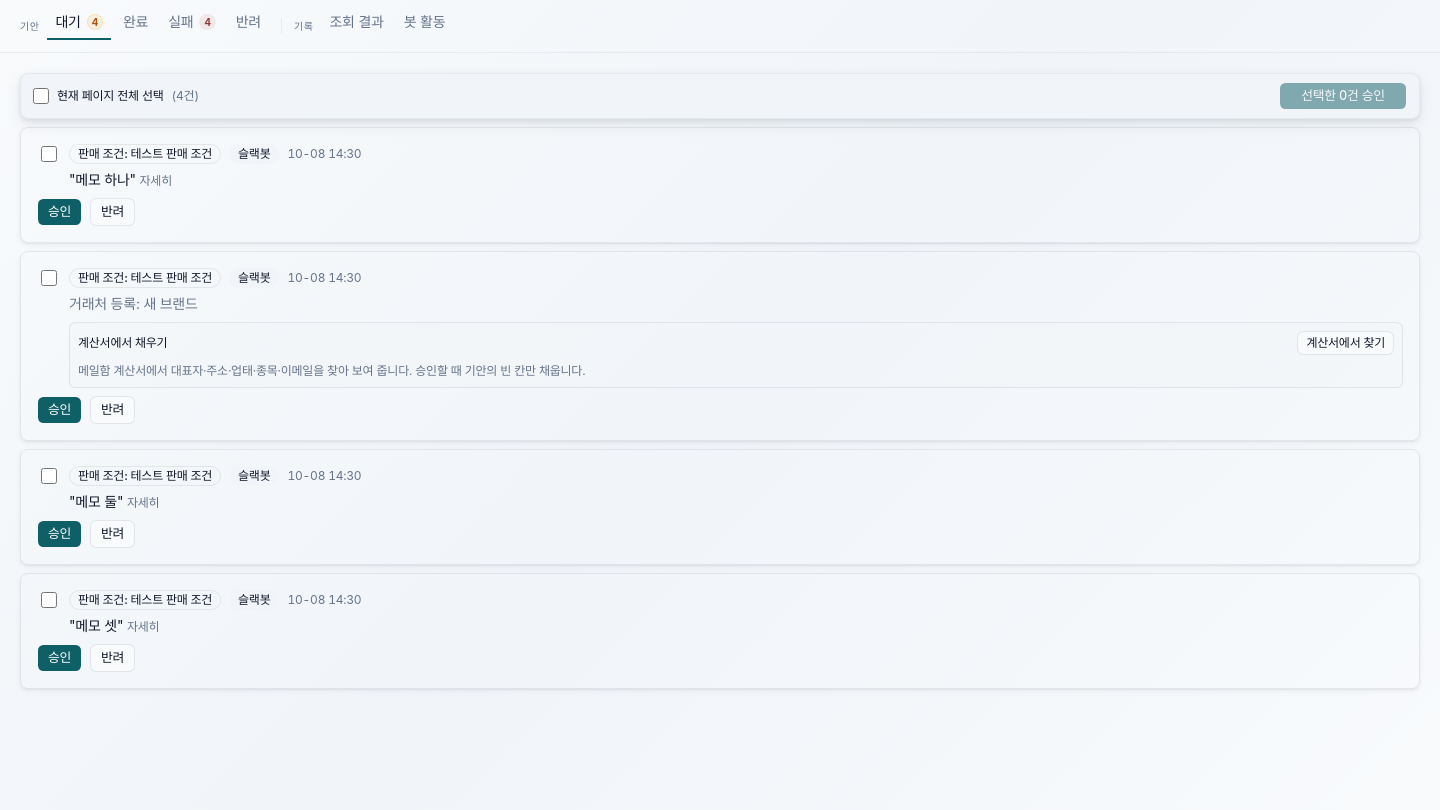
Scenario: 결재함 대기 탭 — 일괄 승인 › ③ 확인 창은 종류별 건수와 CRM 데이터 변경 경고를 보여 준다 · ④ 취소하면 보내지 않는다
Click the checkbox labelled "현재 페이지 전체 선택 (4건)".
click(41, 96)  # box left=33, top=88, right=49, bottom=104
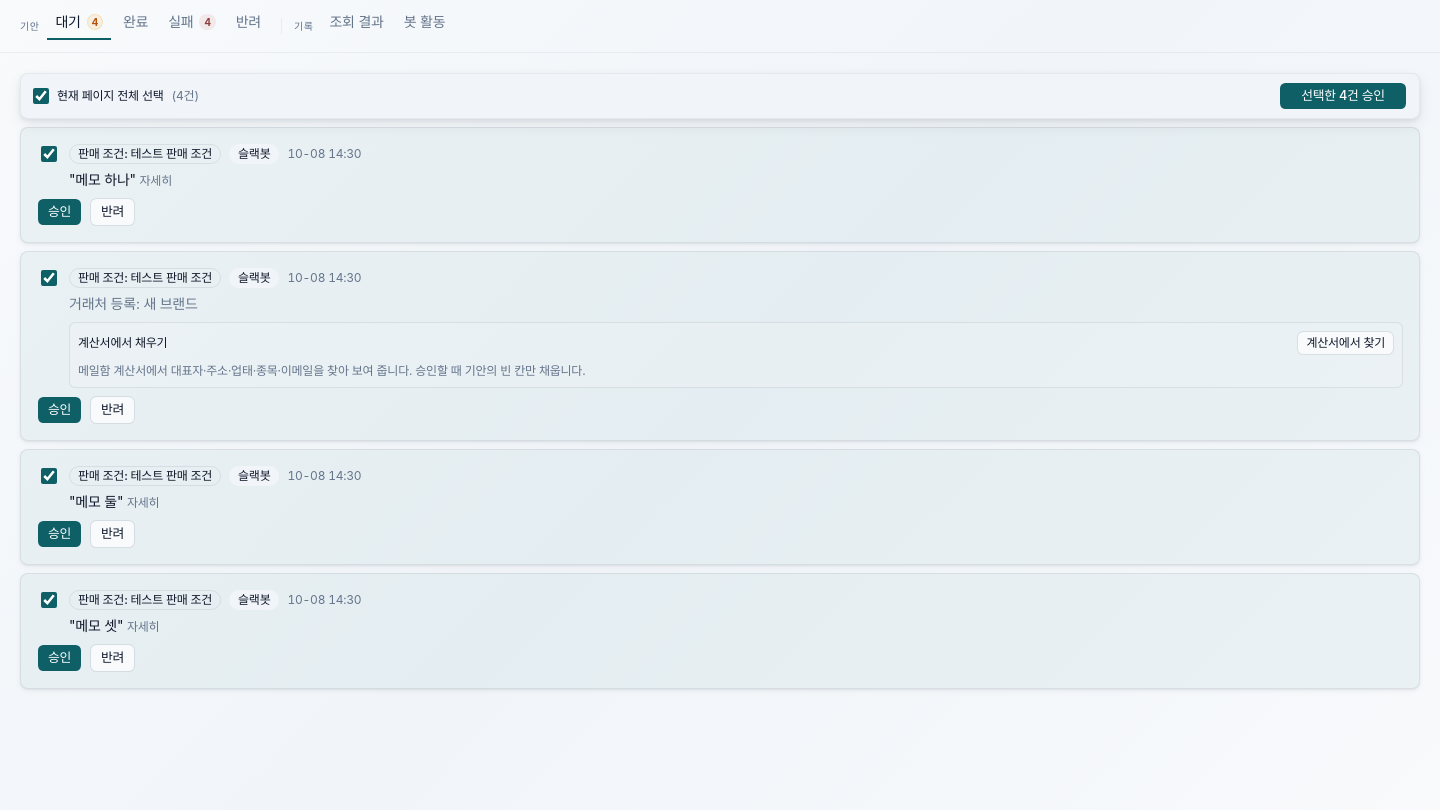
Click the button "선택한 4건 승인".
click(1343, 96)  # box left=1279, top=82, right=1407, bottom=110
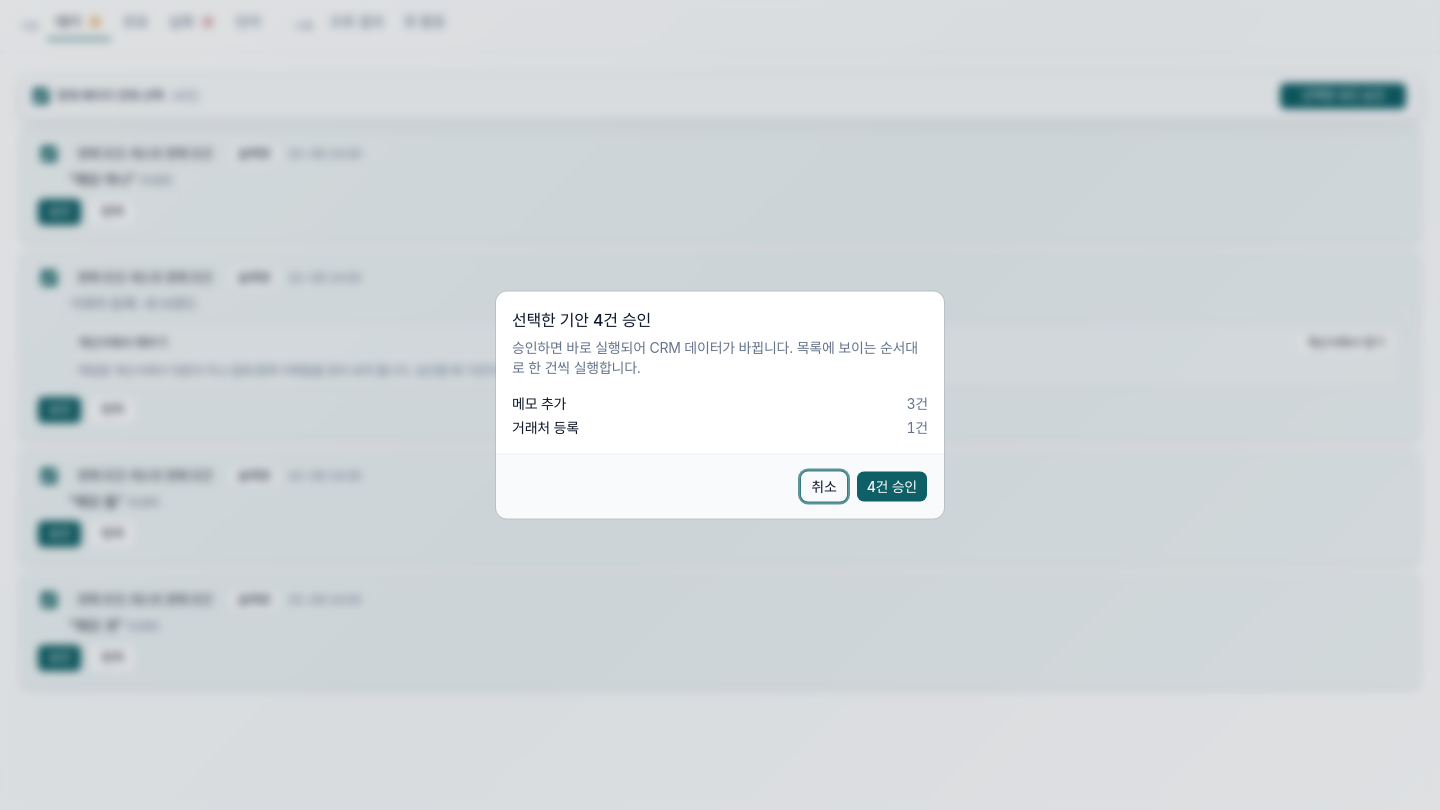
Expected: the heading "선택한 기안 4건 승인" is shown, left=512, top=308, right=651, bottom=332
Expected: the text "승인하면 바로 실행되어 CRM 데이터가 바뀝니다. 목록에 보이는 순서대로 한 건씩 실행합니다." is shown, left=512, top=338, right=928, bottom=378
Expected: the list items read "메모 추가3건", "거래처 등록1건", in this order, left=512, top=394, right=928, bottom=414; left=512, top=418, right=928, bottom=438
Click the button "취소".
click(824, 486)  # box left=800, top=470, right=848, bottom=502
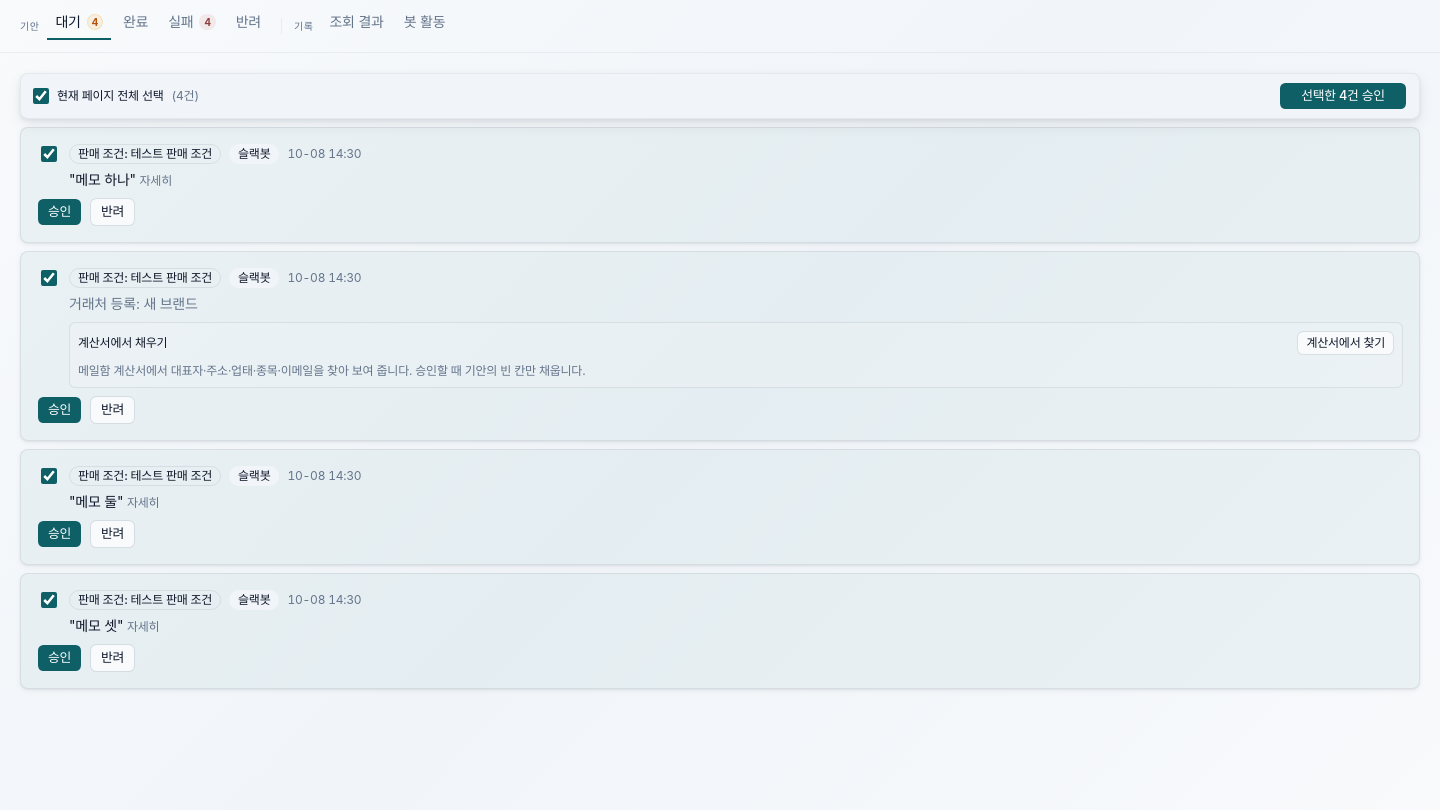
Expected: the dialog is gone
